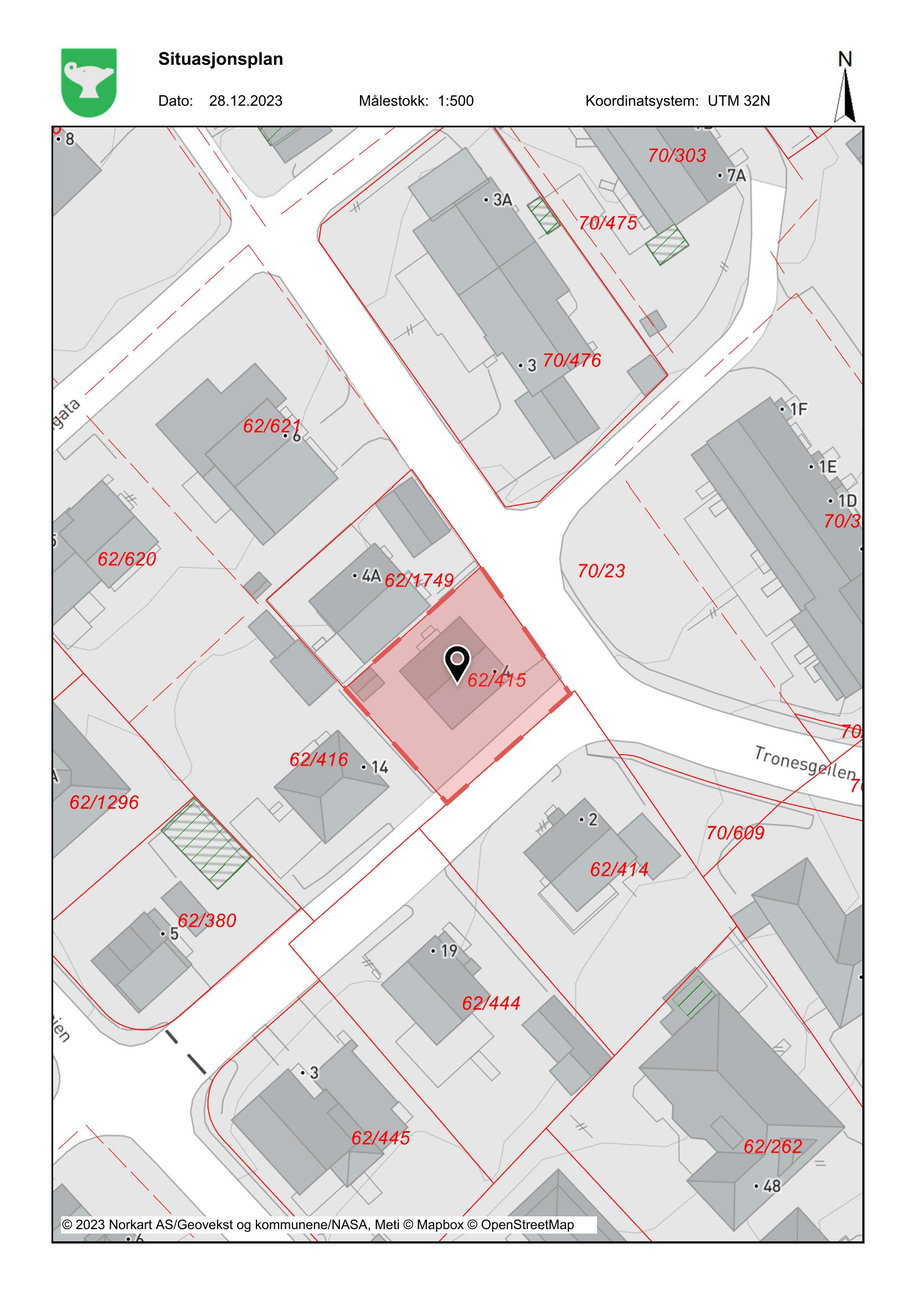situasjonskart: (49, 123, 870, 1245)
